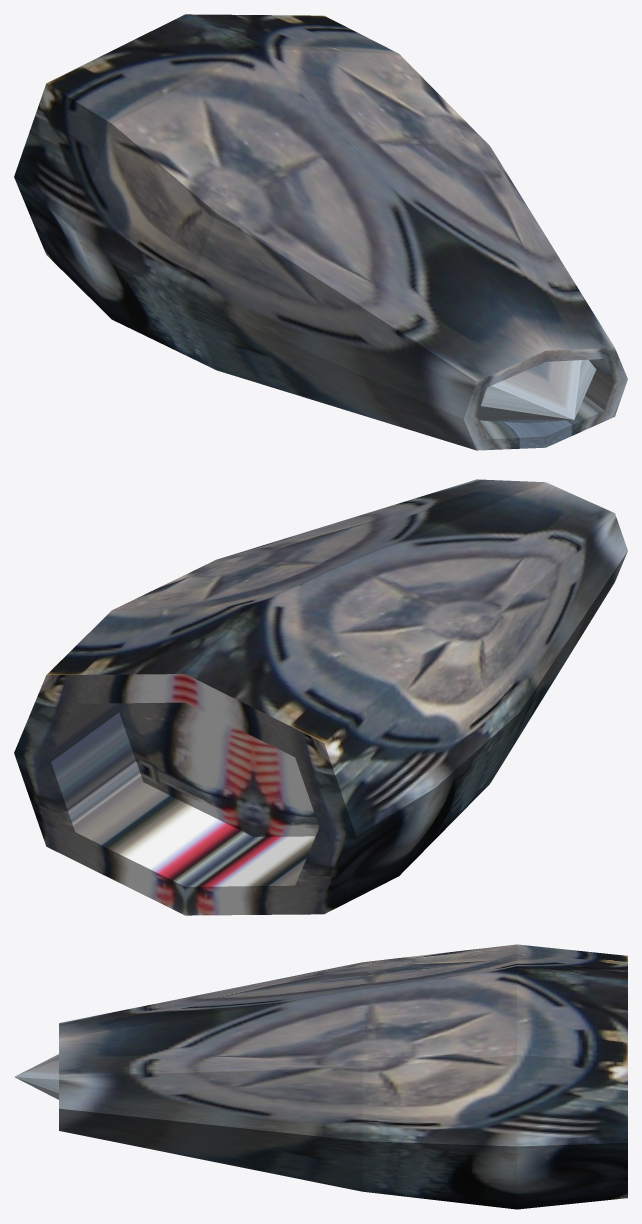
The picture shows the model from 3 angles, top to bottom: view 1: azimuth 30°, elevation 25°; view 2: azimuth 150°, elevation 25°; view 3: azimuth 270°, elevation 25°; orthographic projection. The views are drawn at different scales.
Visible parts, largest first — view 1: Engine-2.001_Cube.016; view 2: Engine-2.001_Cube.016; view 3: Engine-2.001_Cube.016.
Boxes of the visible parts, bbox=[...] form: Engine-2.001_Cube.016: bbox=[14, 14, 627, 450]; Engine-2.001_Cube.016: bbox=[14, 479, 627, 915]; Engine-2.001_Cube.016: bbox=[14, 944, 627, 1209].
Size of the model in its own units: 6.13 by 4.48 by 11.45.
